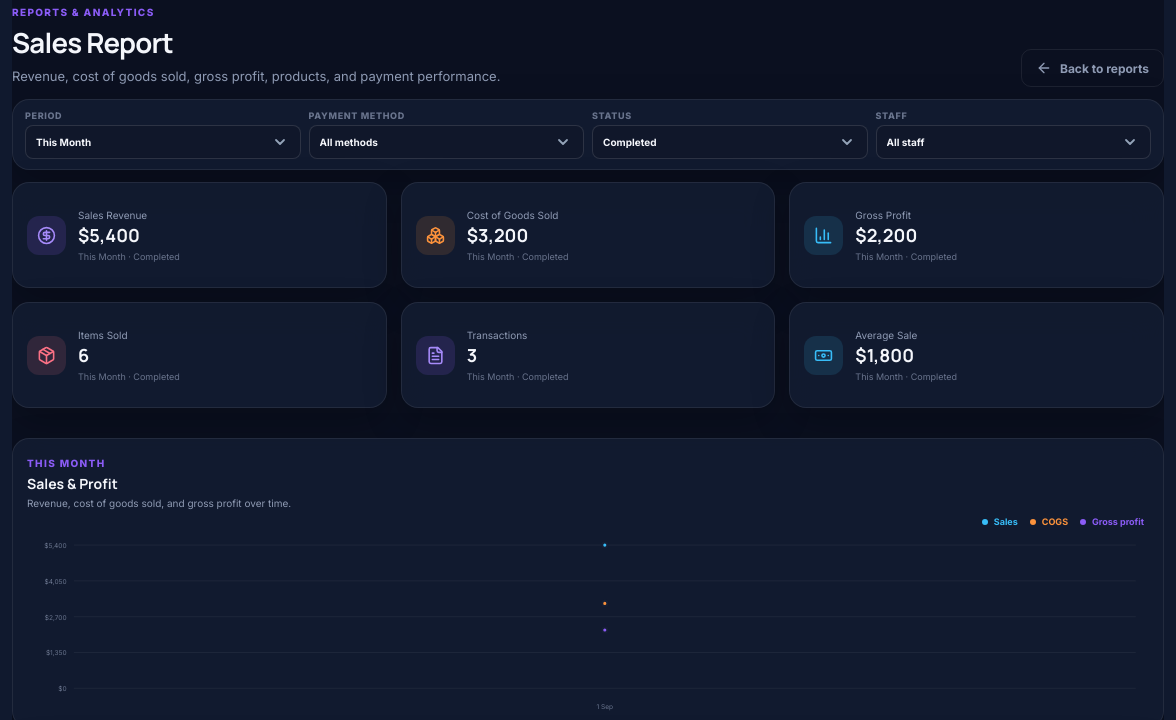
Test case: Sales Report View › discards stale response when sales filter changes rapidly
Expected: the text "$5,400" is shown, [78,223,140,247]
Select CASH (slow)
Select "Cash" in the dropdown labelled "Payment method": (446, 142) [308,125,584,159]
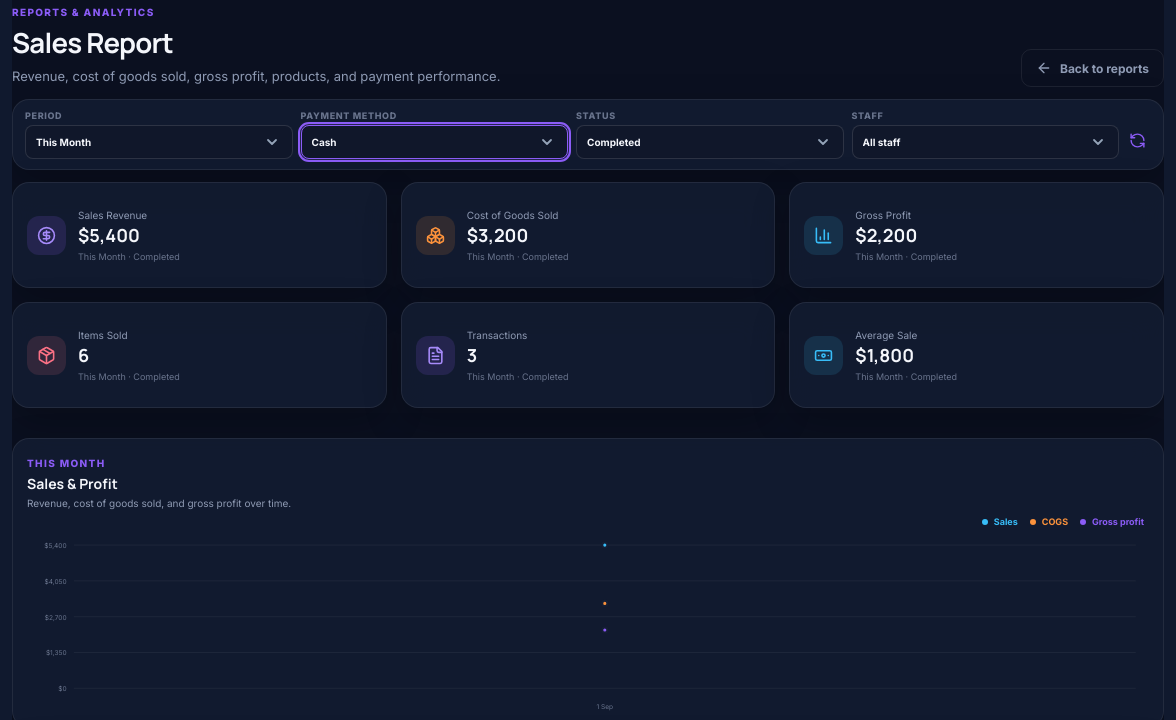
Immediately select KHQR (fast)
Select "KHQR" in the dropdown labelled "Payment method": (434, 142) [300,125,568,159]
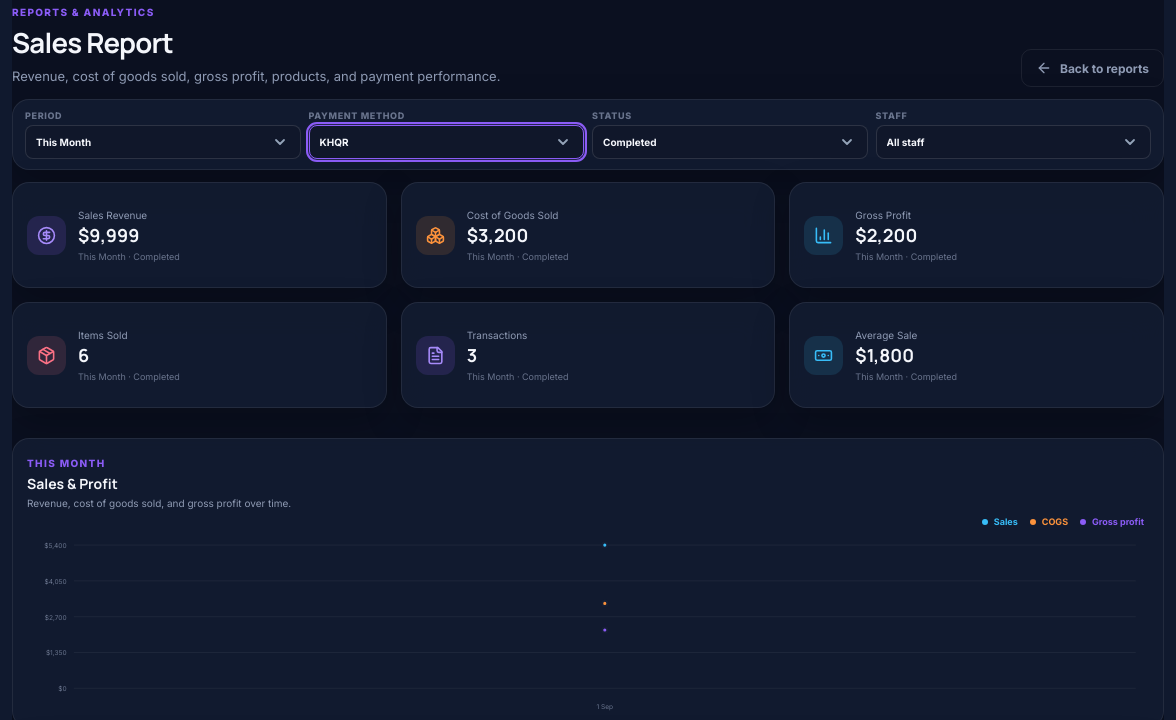
Now the text "$9,999" is shown, box [78,223,139,247]
